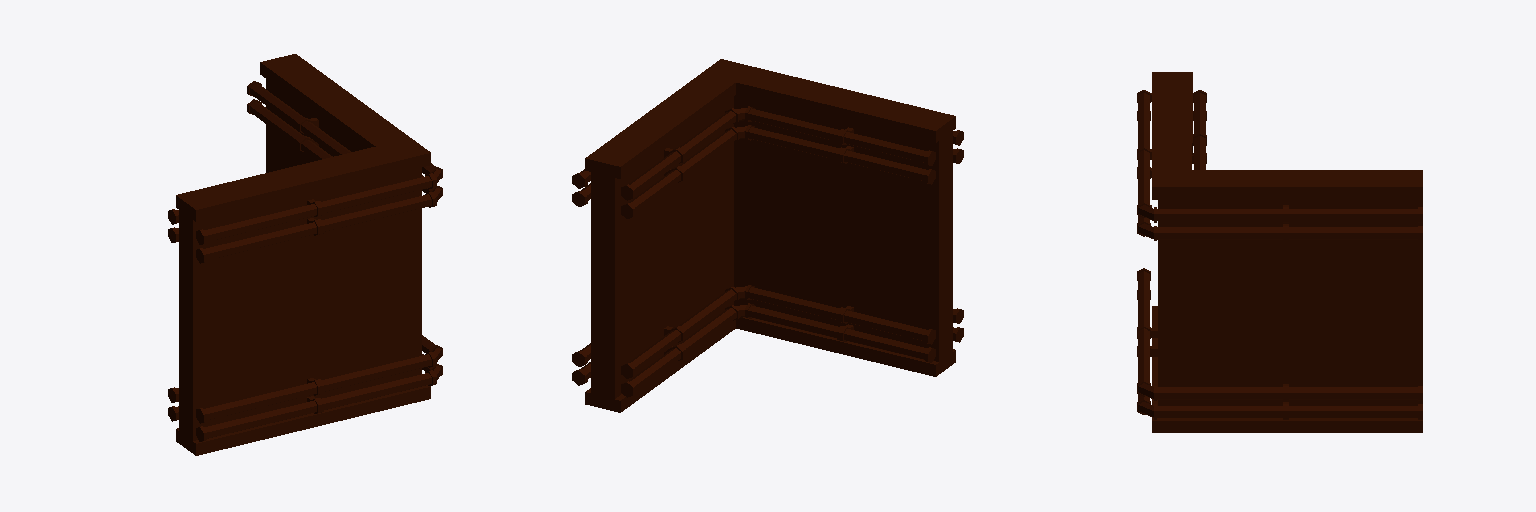
The model's file is 4x4_wall_corner_pipe.obj.
3 renders of one model, left to right at view 1: azimuth 30°, elevation 25°; view 2: azimuth 150°, elevation 25°; view 3: azimuth 270°, elevation 25°, orthographic.
Visible parts, largest first — view 1: wall, pipe; view 2: wall, pipe; view 3: wall, pipe.
Boxes of the visible parts, x1=… form: wall: x1=176, y1=54, x2=430, y2=455; pipe: x1=168, y1=81, x2=442, y2=441; wall: x1=585, y1=59, x2=955, y2=412; pipe: x1=572, y1=106, x2=963, y2=397; wall: x1=1152, y1=72, x2=1422, y2=432; pipe: x1=1137, y1=90, x2=1422, y2=419.
Size of the model in its own units: 4.22 by 4 by 4.22.